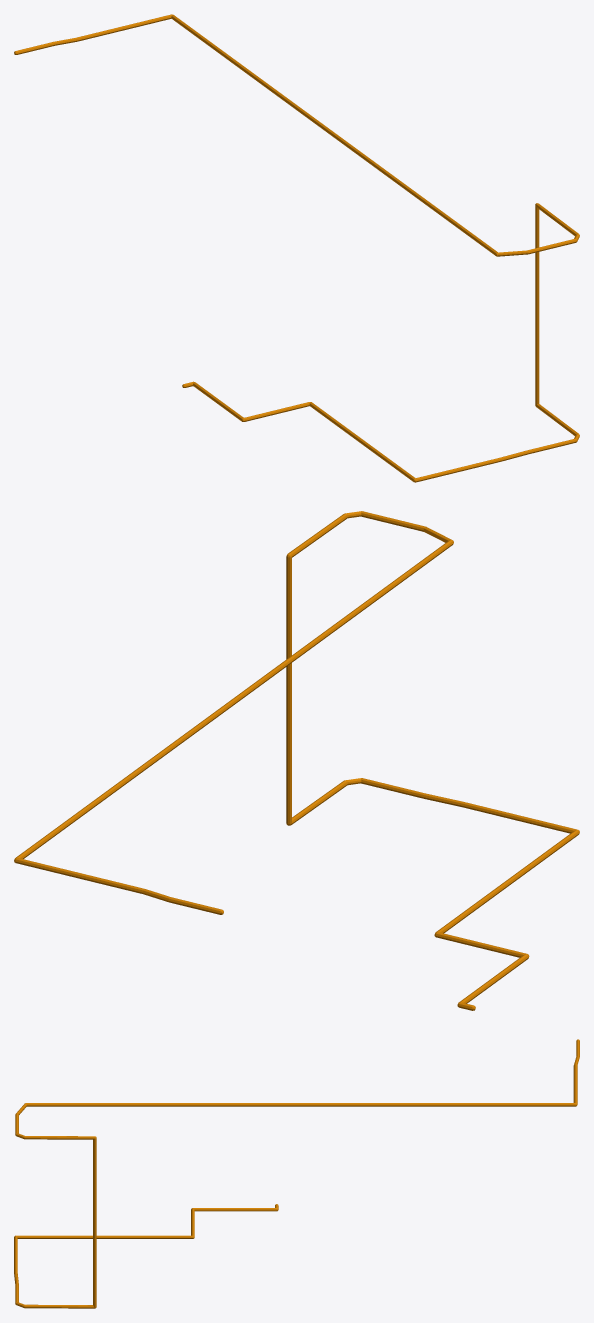
The picture shows the model from 3 angles, top to bottom: view 1: azimuth 30°, elevation 25°; view 2: azimuth 150°, elevation 25°; view 3: azimuth 270°, elevation 25°; orthographic projection. The views are drawn at different scales.
Size of the model in its own units: 1304 by 1020 by 3037.
